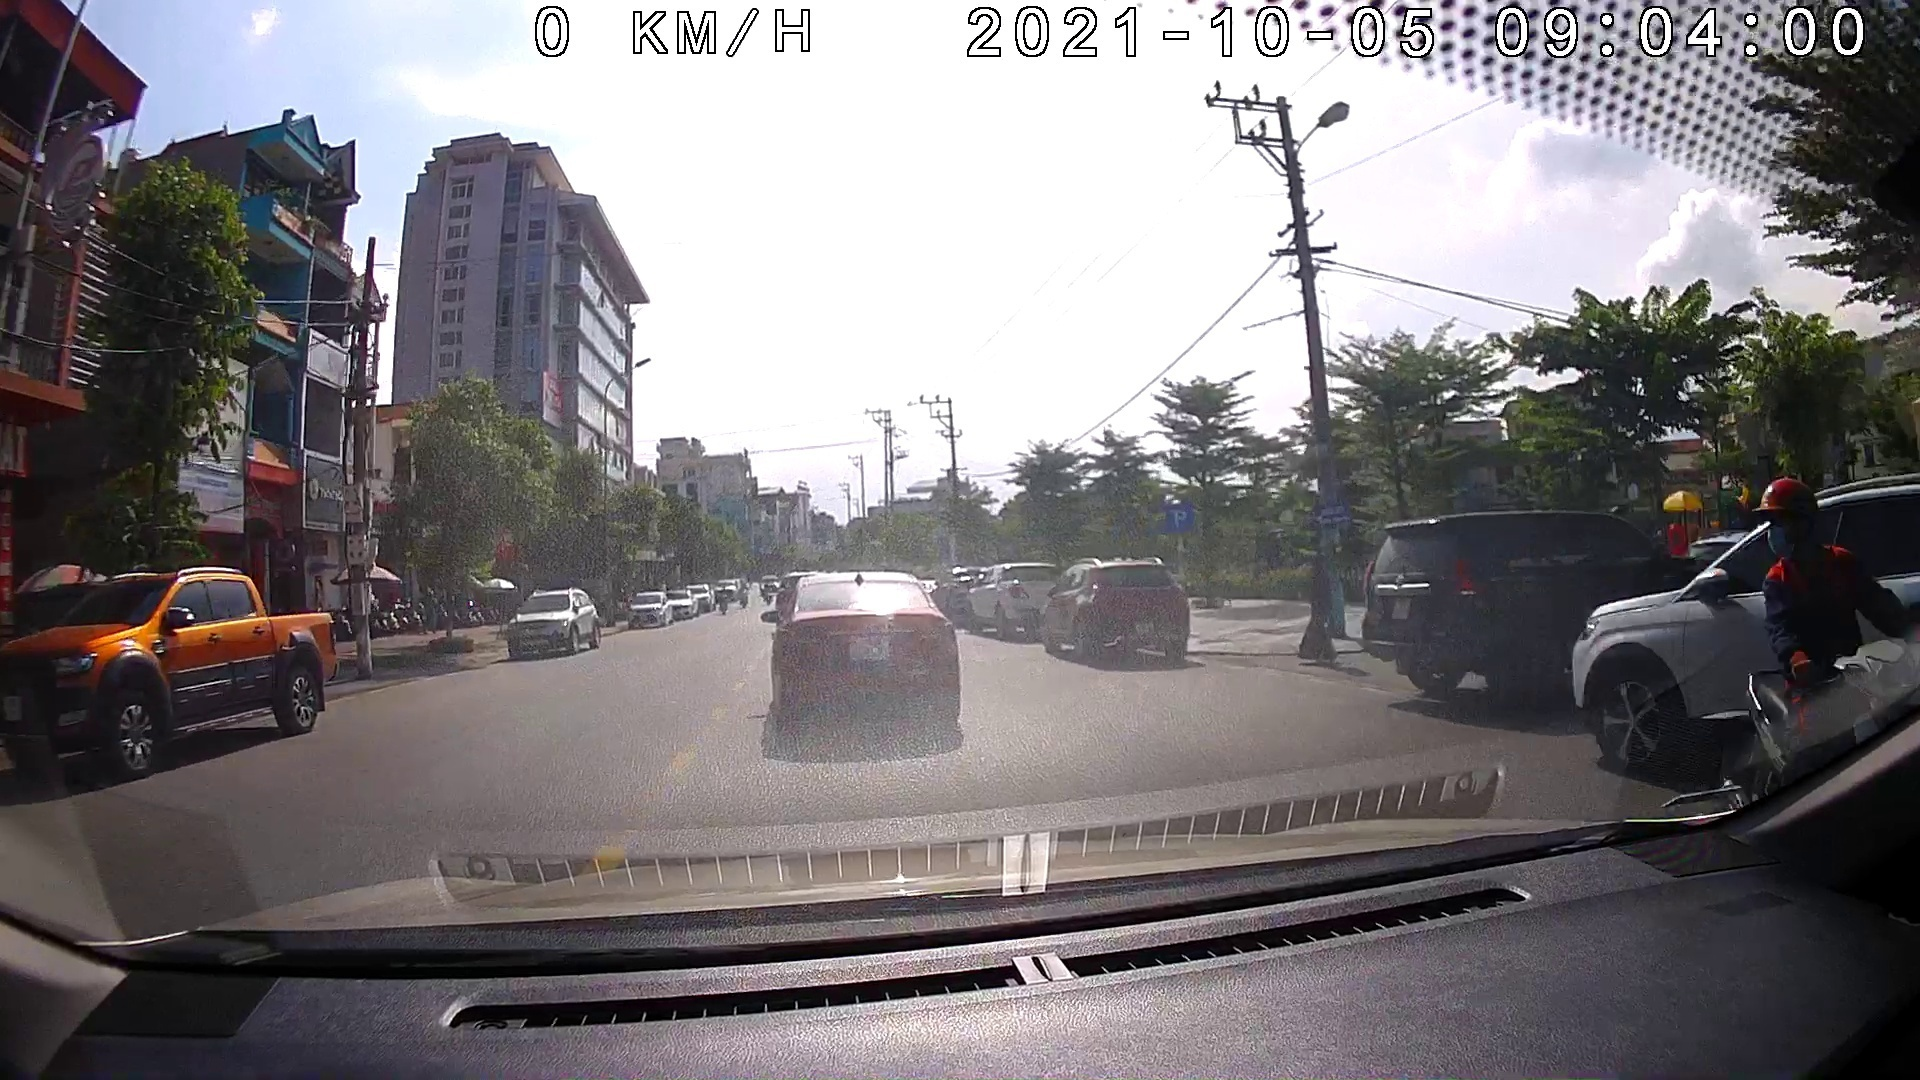Bien khac: (1162, 501, 1196, 541)
